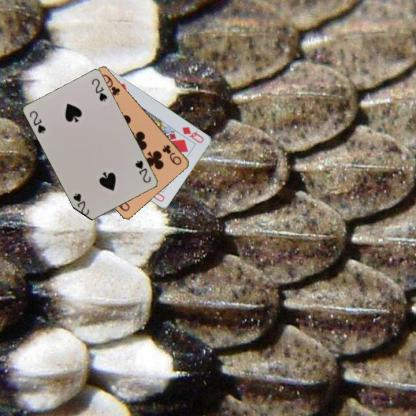2s: (28, 108, 48, 135), (133, 158, 152, 184)
9c: (160, 142, 182, 167)
Qd: (180, 124, 205, 145)
